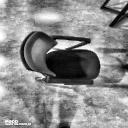chair_fail: (19, 31, 100, 85)
